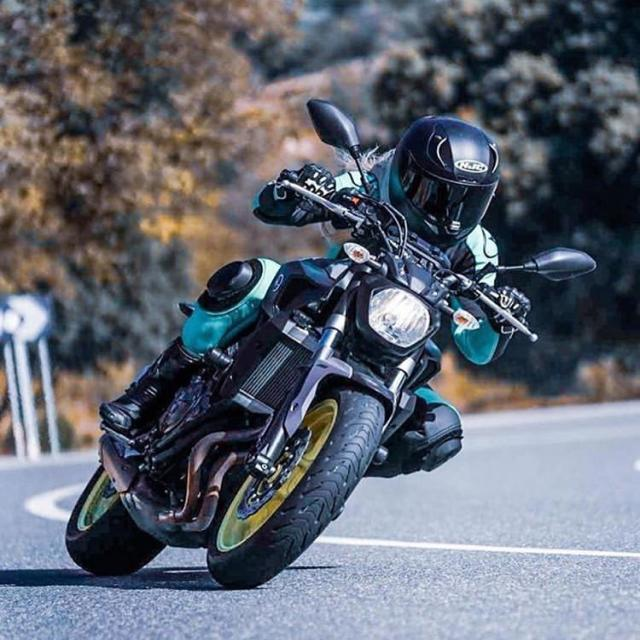helmet: (392, 105, 502, 235)
